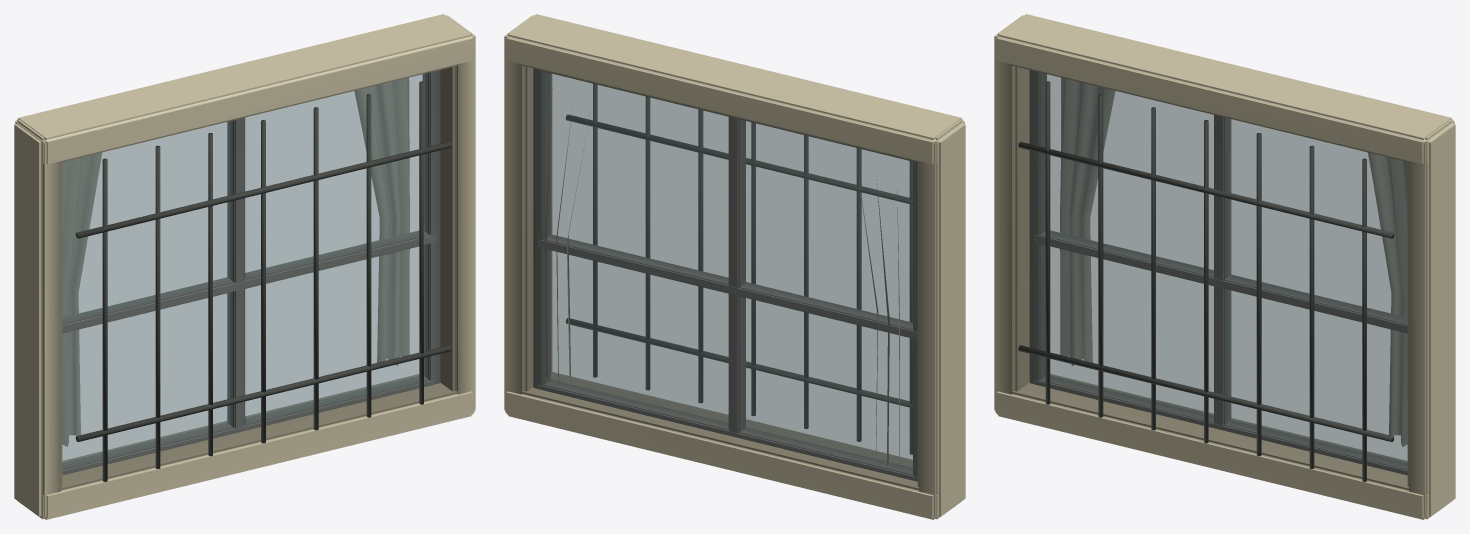
Rendered from garden-sash.glb.
3 views of the same model, side by side, from view 1: azimuth 30°, elevation 25°; view 2: azimuth 150°, elevation 25°; view 3: azimuth 330°, elevation 25° (orthographic).
Parts seen in each view (by area): view 1: Frame; view 2: Frame; view 3: Frame.
Boxes of the visible parts, box(x1,y1,x2,y2) form: Frame: box(14, 14, 475, 519); Frame: box(504, 14, 965, 519); Frame: box(994, 14, 1455, 519).
Size of the model in its own units: 1.41 by 1.18 by 0.215.
